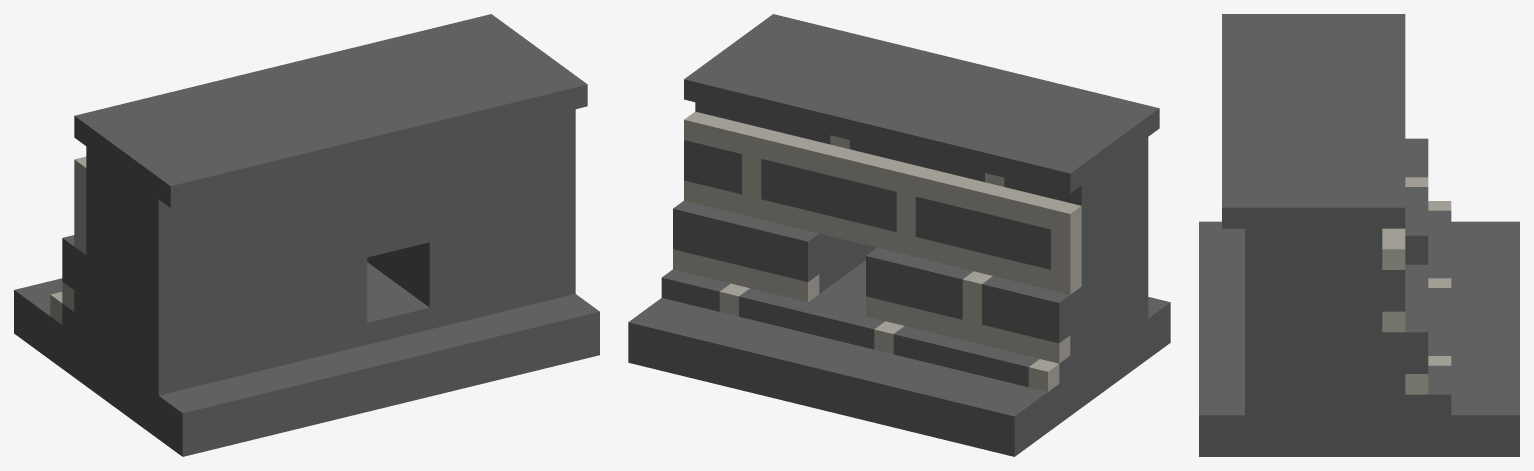
The picture shows the model from 3 angles, left to right: view 1: azimuth 30°, elevation 25°; view 2: azimuth 150°, elevation 25°; view 3: azimuth 270°, elevation 25°; orthographic projection. The views are drawn at different scales.
Parts seen in each view (by area): view 1: 挡墙转角高差与端头族; view 2: 挡墙转角高差与端头族; view 3: 挡墙转角高差与端头族.
Boxes of the visible parts, x1,y1,x2,y2 form: 挡墙转角高差与端头族: (14,14,599,456); 挡墙转角高差与端头族: (628,14,1170,456); 挡墙转角高差与端头族: (1199,14,1519,456).
Bounding box in the file's own units: 4 × 2.4 × 2.8.
Materials: 2 (2 with a texture image).
